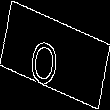O_N: (37, 24, 73, 86)
